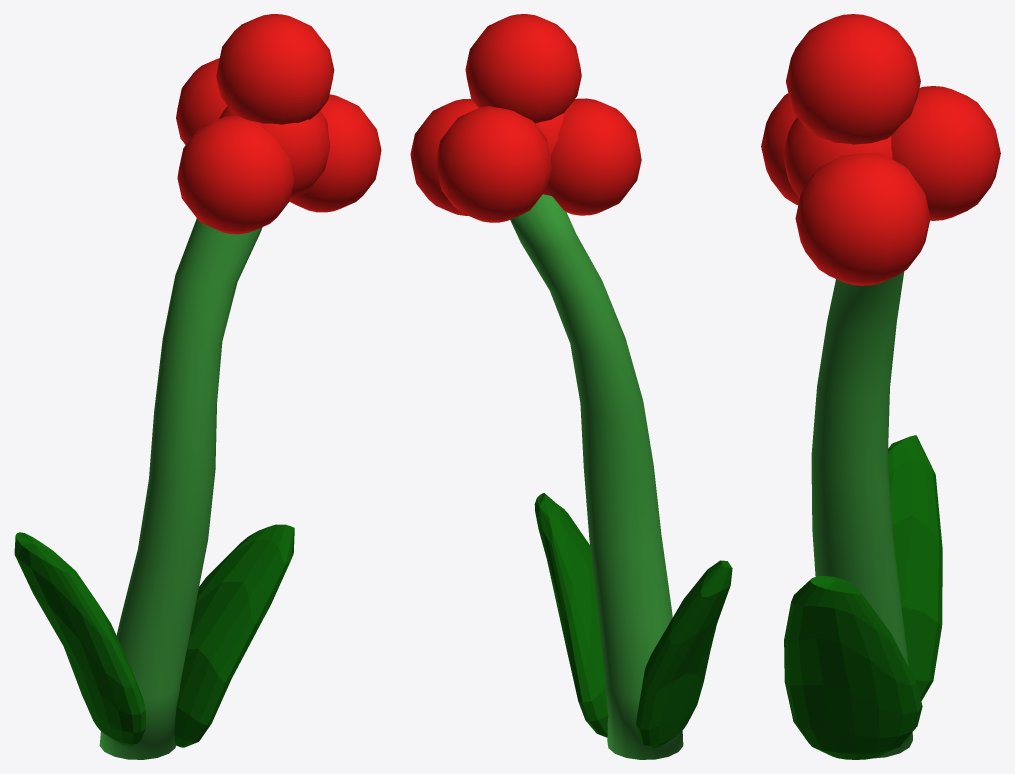
The model's file is flower.glb.
The picture shows the model from 3 angles, left to right: view 1: azimuth 30°, elevation 25°; view 2: azimuth 150°, elevation 25°; view 3: azimuth 270°, elevation 25°; orthographic projection. The views are drawn at different scales.
Visible parts, largest first — view 1: Cylinder, Sphere.006, Sphere.005, Sphere.003, Sphere.004, Sphere.002, Sphere.001, Sphere; view 2: Cylinder, Sphere, Sphere.004, Sphere.005, Sphere.006, Sphere.003, Sphere.002, Sphere.001; view 3: Cylinder, Sphere.006, Sphere.002, Sphere.004, Sphere.005, Sphere, Sphere.001, Sphere.003.
Part boxes in pixels (x1,y1,x2,y2): Cylinder: (99,218,262,759); Sphere.006: (174,524,294,747); Sphere.005: (14,532,145,746); Sphere.003: (177,115,294,234); Sphere.004: (216,14,334,124); Sphere.002: (289,94,381,212); Sphere.001: (219,106,330,198); Sphere: (176,58,227,144); Cylinder: (510,194,683,759); Sphere: (435,106,551,222); Sphere.004: (465,14,581,123); Sphere.005: (636,560,732,748); Sphere.006: (534,493,608,737); Sphere.003: (543,98,641,215); Sphere.002: (410,99,477,215); Sphere.001: (536,108,567,158); Cylinder: (811,271,912,758); Sphere.006: (784,576,922,759); Sphere.002: (795,153,930,285); Sphere.004: (786,14,920,144); Sphere.005: (888,435,942,700); Sphere: (891,86,1000,220); Sphere.001: (783,117,892,198); Sphere.003: (761,93,799,205).
Size of the model in its own units: 0.4254 by 0.8447 by 0.231.
